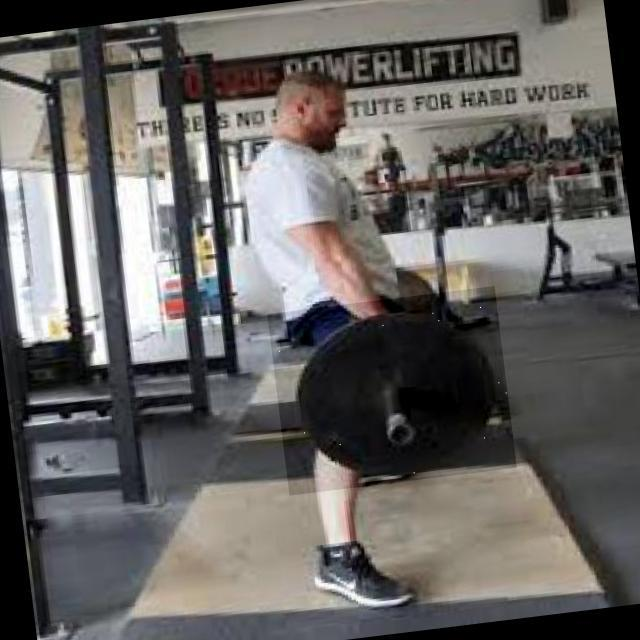barbell: (268, 287, 518, 497)
